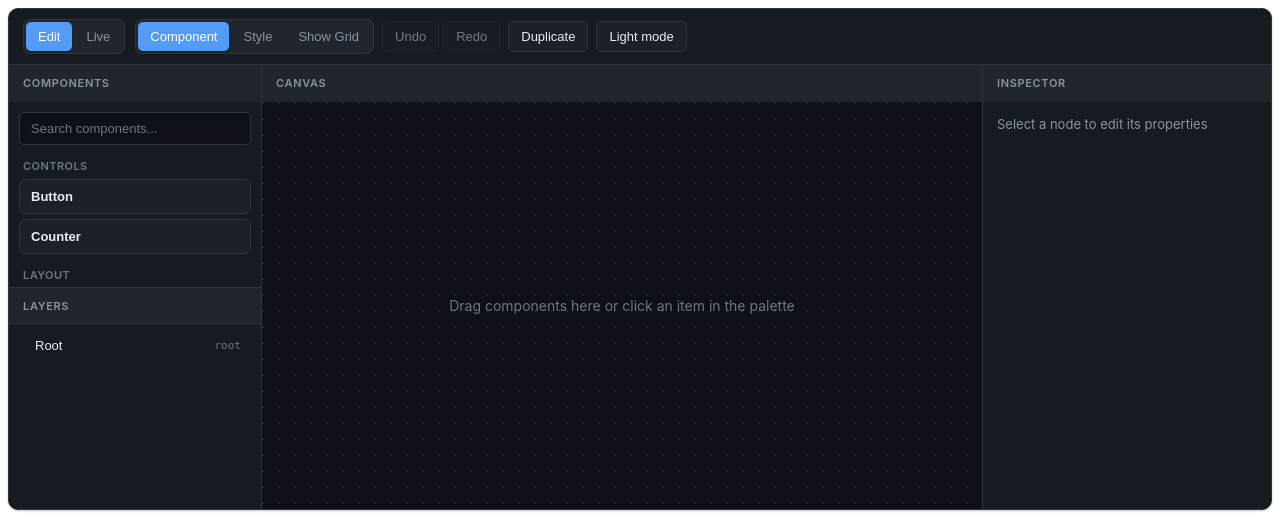
Test case: ViewFoundryEditor › hides editor chrome in Live mode
Click the button "Live": (98, 36) [74,22,122,51]
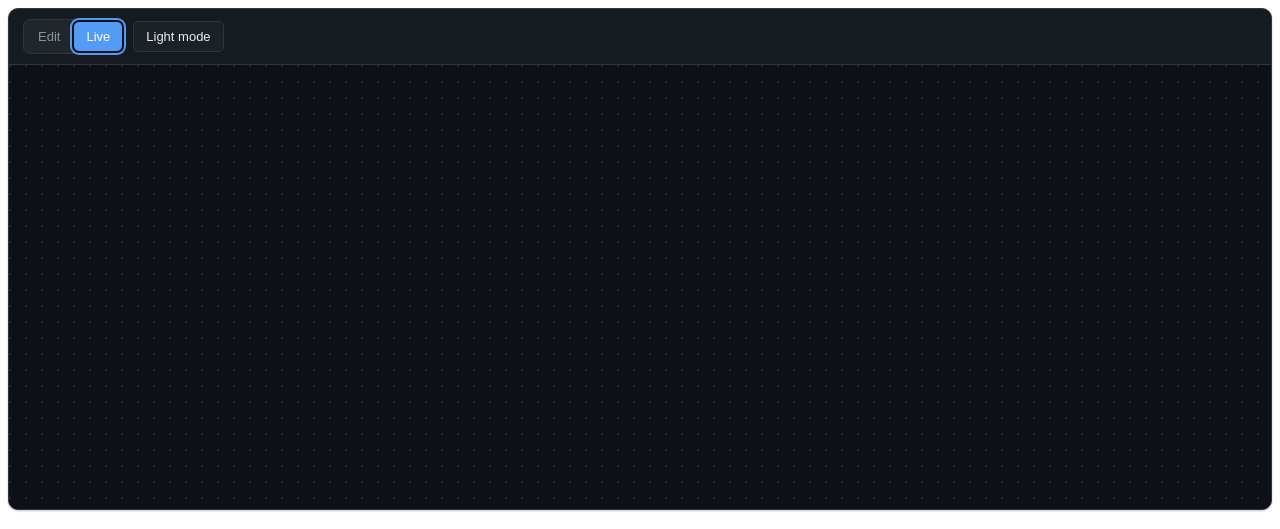
Now the text "Components" is gone
Now the text "Inspector" is gone
